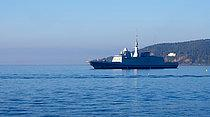MIL_Ship: (87, 36, 180, 69)
